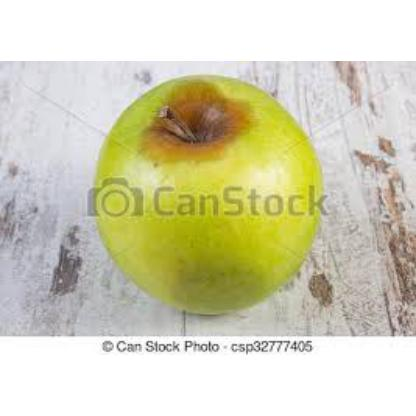damaged_apple: (96, 75, 320, 311)
